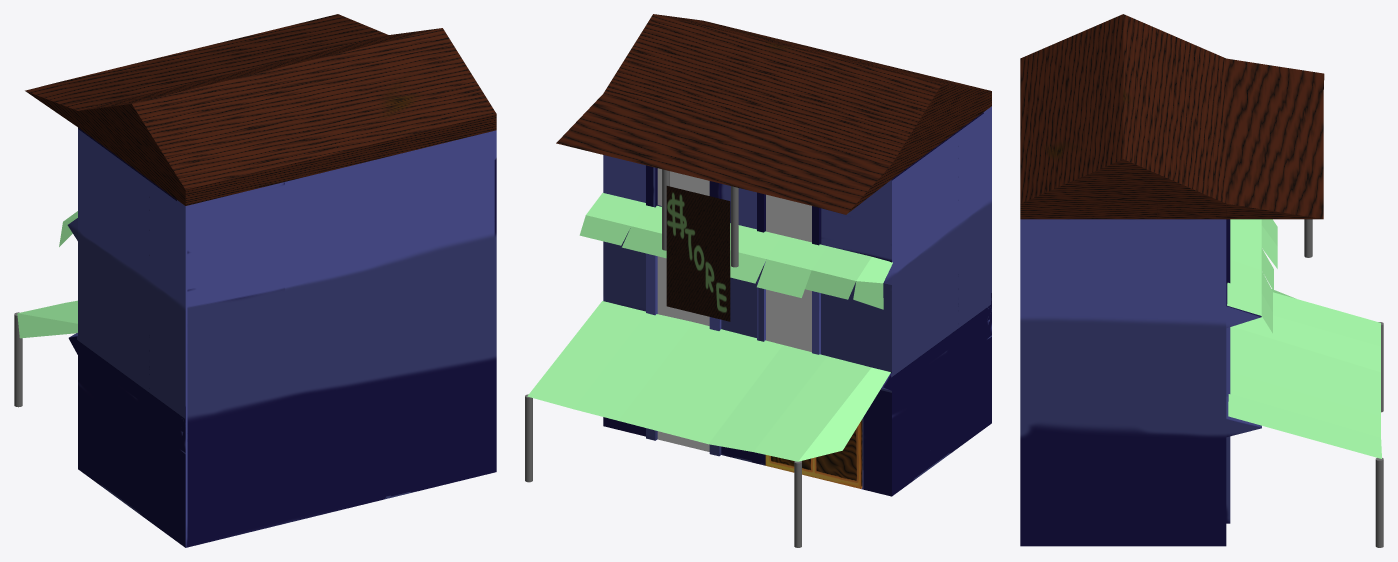
The model's file is 3StoryStore.fbx.
3 views of the same model, side by side, from view 1: azimuth 30°, elevation 25°; view 2: azimuth 150°, elevation 25°; view 3: azimuth 270°, elevation 25° (orthographic). The views are drawn at different scales.
Parts seen in each view (by area): view 1: BaseBuilding, Roof, Overhang.001, Support.002; view 2: BaseBuilding, Roof, Overhang.001, Overhang, Sign, Window.003, Door, Window.005, Window.002, Window.004, Support.002, Support.001 (+1 smaller); view 3: BaseBuilding, Roof, Overhang.001, Overhang, Support.001.
Part boxes in pixels (bbox=[...]): BaseBuilding: bbox=[67, 127, 496, 547]; Roof: bbox=[25, 14, 496, 205]; Overhang.001: bbox=[17, 300, 77, 338]; Support.002: bbox=[14, 312, 22, 407]; BaseBuilding: bbox=[603, 106, 991, 496]; Roof: bbox=[556, 14, 991, 214]; Overhang.001: bbox=[527, 301, 890, 461]; Overhang: bbox=[579, 193, 892, 309]; Sign: bbox=[666, 186, 730, 321]; Window.003: bbox=[766, 289, 811, 352]; Door: bbox=[765, 419, 862, 488]; Window.005: bbox=[766, 194, 811, 242]; Window.002: bbox=[657, 256, 709, 325]; Window.004: bbox=[657, 168, 709, 205]; Support.002: bbox=[794, 461, 801, 547]; Support.001: bbox=[525, 394, 532, 482]; BaseBuilding: bbox=[1020, 219, 1261, 546]; Roof: bbox=[1020, 14, 1324, 219]; Overhang.001: bbox=[1228, 289, 1381, 458]; Overhang: bbox=[1227, 219, 1277, 333]; Support.001: bbox=[1375, 458, 1383, 547].
Size of the model in its own units: 1027 by 1243 by 1058.
9 materials, 4 textured.
